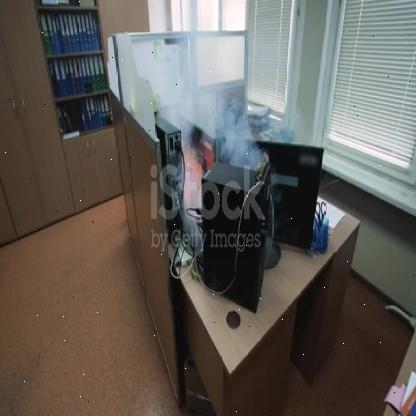smoke: (131, 27, 313, 225)
